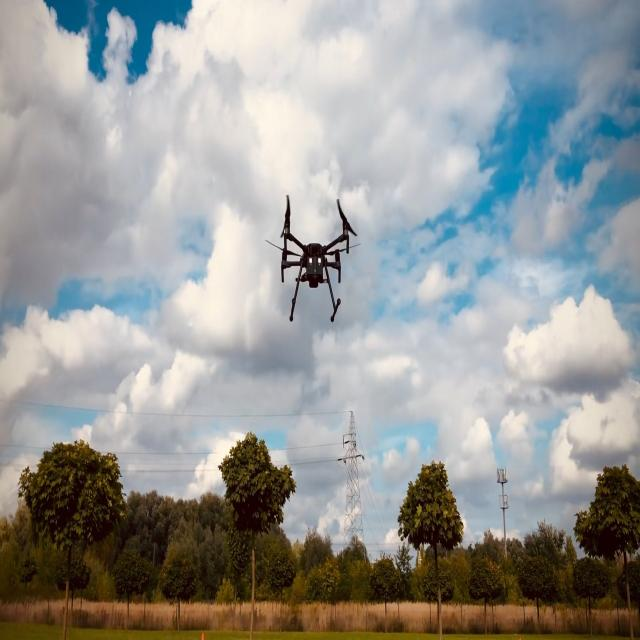drone: (264, 193, 361, 323)
